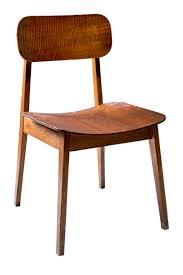chair: (6, 15, 174, 260)
